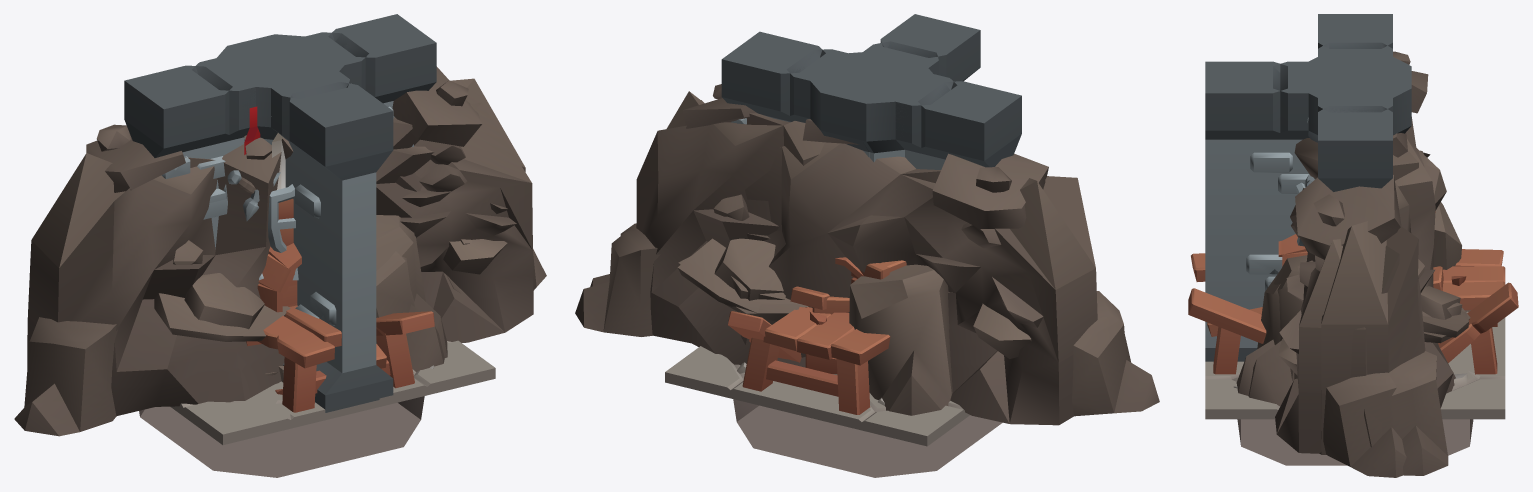
File: dungeon.glb
The picture shows the model from 3 angles, left to right: view 1: azimuth 30°, elevation 25°; view 2: azimuth 150°, elevation 25°; view 3: azimuth 270°, elevation 25°; orthographic projection. The views are drawn at different scales.
Parts seen in each view (by area): view 1: rubble_large, wall_corner, wall, floor_tile_big_grate, wall_arched, rubble_half, table_long_broken, floor_tile_large, wall_pillar, pillar_decorated, floor_dirt_large, wall_cracked (+3 smaller); view 2: rubble_large, rubble_half, wall, table_long_broken, floor_tile_big_grate, floor_tile_large, wall_arched, wall_pillar, wall_half, wall_corner, wall_cracked, crates_stacked (+1 smaller); view 3: rubble_half, rubble_large, wall_corner, table_long_broken, wall, wall_arched, floor_tile_large, wall_half, wall_pillar, floor_tile_big_grate, wall_cracked, floor_dirt_large (+3 smaller).
Part boxes in pixels (x1,y1,x2,y2): rubble_large: [14, 102, 546, 436]; wall_corner: [124, 49, 393, 412]; wall: [124, 14, 435, 246]; floor_tile_big_grate: [139, 396, 424, 477]; wall_arched: [124, 15, 436, 178]; rubble_half: [376, 66, 525, 357]; table_long_broken: [258, 305, 434, 412]; floor_tile_large: [170, 340, 495, 444]; wall_pillar: [175, 33, 358, 248]; pillar_decorated: [227, 133, 295, 252]; floor_dirt_large: [223, 365, 495, 444]; wall_cracked: [130, 15, 413, 221]; rubble_large: [590, 100, 1159, 425]; rubble_half: [575, 84, 824, 367]; wall: [722, 35, 1021, 169]; table_long_broken: [728, 286, 890, 414]; floor_tile_big_grate: [733, 399, 1002, 477]; floor_tile_large: [665, 346, 969, 446]; wall_arched: [724, 36, 1021, 169]; wall_pillar: [803, 51, 941, 161]; wall_half: [721, 31, 869, 122]; wall_corner: [863, 14, 991, 166]; wall_cracked: [730, 31, 1001, 169]; crates_stacked: [805, 260, 906, 373]; rubble_half: [1248, 151, 1468, 475]; rubble_large: [1236, 51, 1470, 477]; wall_corner: [1205, 47, 1374, 361]; table_long_broken: [1188, 249, 1518, 374]; wall: [1318, 14, 1392, 191]; wall_arched: [1318, 14, 1392, 191]; floor_tile_large: [1205, 311, 1505, 412]; wall_half: [1318, 77, 1392, 191]; wall_pillar: [1299, 49, 1411, 142]; floor_tile_big_grate: [1237, 419, 1473, 465]; wall_cracked: [1319, 14, 1392, 187]; floor_dirt_large: [1205, 373, 1505, 419].
Size of the model in its own units: 8.13 by 5 by 4.4.
Materials: 1 (1 with a texture image).
